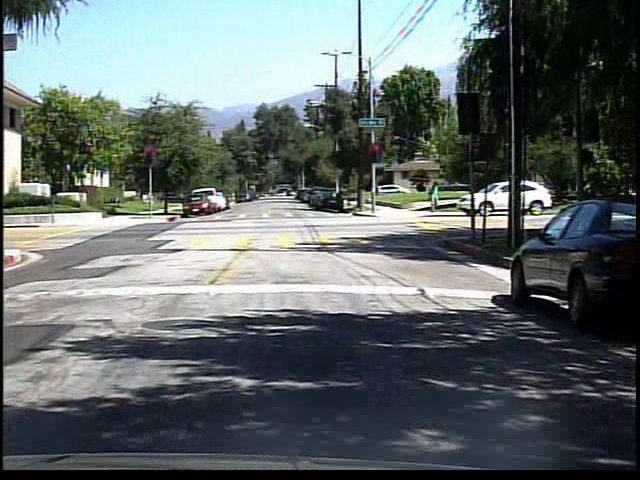person: (425, 177, 444, 216)
